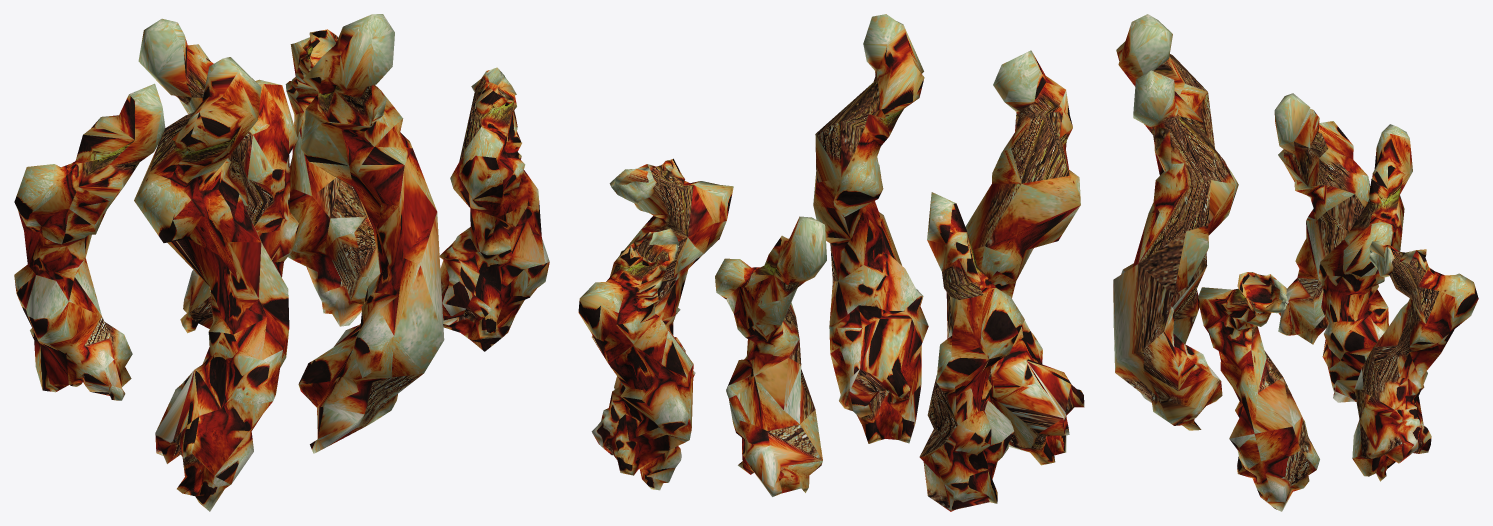
Rendered from treecol.FBX.
3 views of the same model, side by side, from view 1: azimuth 30°, elevation 25°; view 2: azimuth 150°, elevation 25°; view 3: azimuth 270°, elevation 25° (orthographic). The views are drawn at different scales.
Visible parts, largest first — view 1: BlobMesh006; view 2: BlobMesh006; view 3: BlobMesh006.
Boxes of the visible parts, x1=… form: BlobMesh006: x1=14, y1=14, x2=549, y2=511; BlobMesh006: x1=578, y1=14, x2=1084, y2=511; BlobMesh006: x1=1113, y1=14, x2=1478, y2=511.
Bounding box in the file's own units: 588 × 513 × 464.
1 material, 1 textured.
